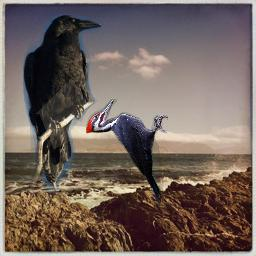Crow: (23, 14, 104, 194)
Woodpecker: (86, 99, 168, 214)
